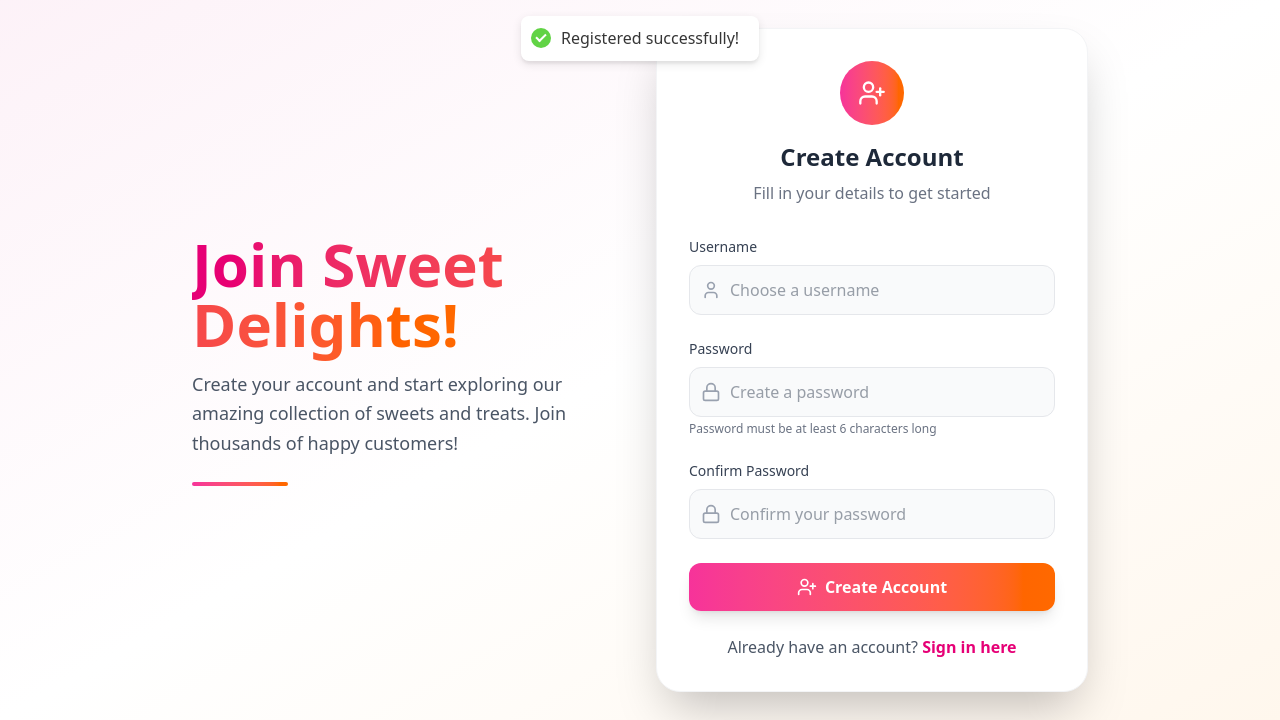
it: RegisterPage › should show loading state during submission
The width and height of the screenshot is (1280, 720).
Type "testuser" into the field with placeholder "Choose a username".
click(872, 290); type("testuser")  # box [689,265,1055,315]
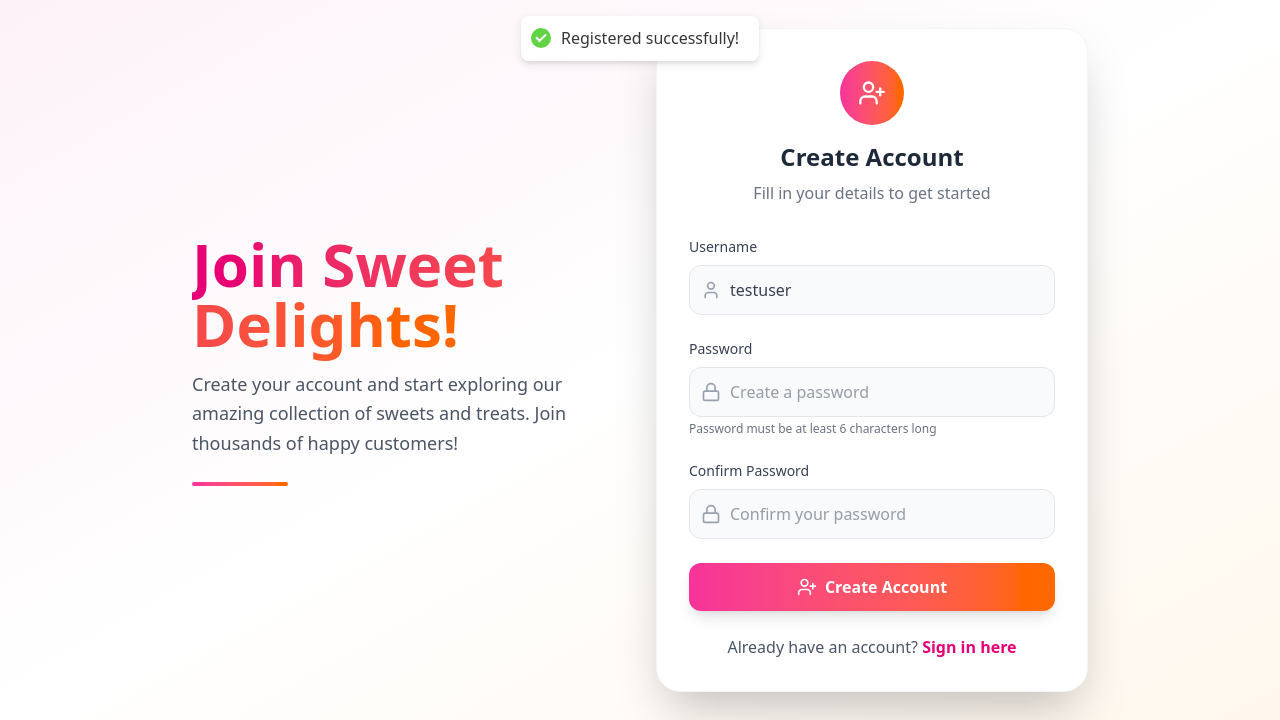
Type "password123" into the password field with placeholder "Create a password".
click(872, 392); type("password123")  # box [689,367,1055,417]
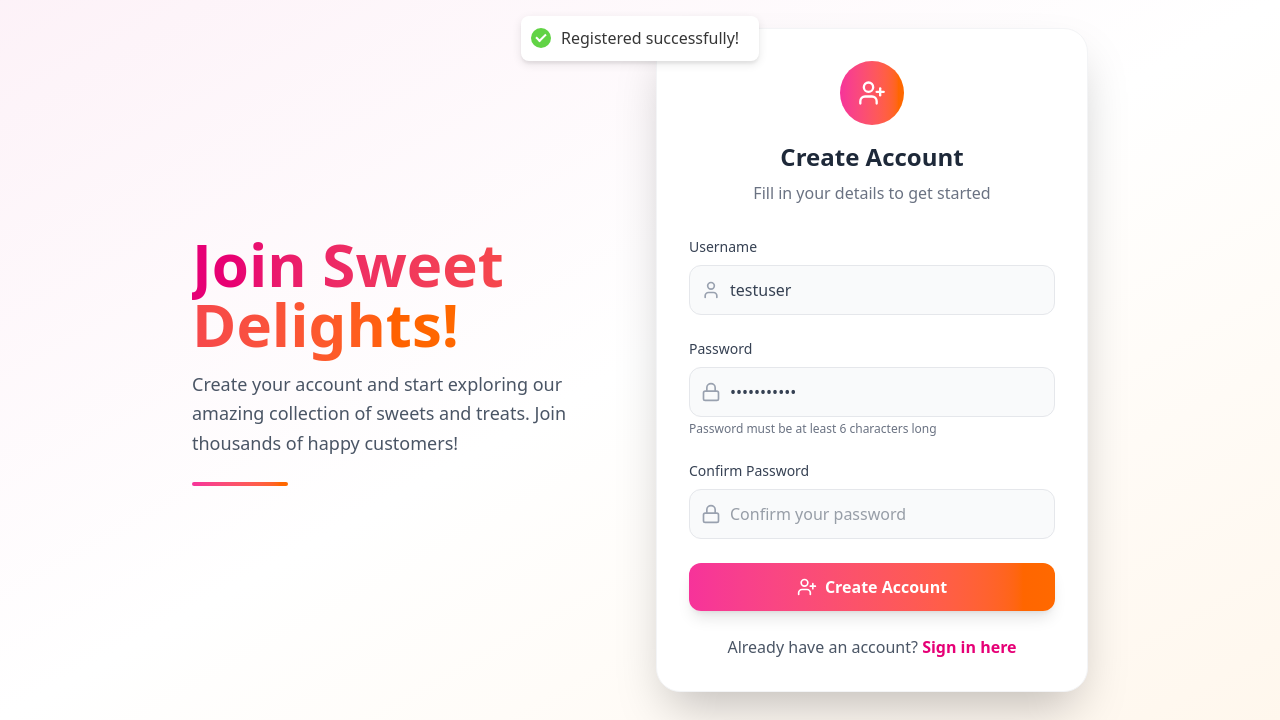
Type "password123" into the password field with placeholder "Confirm your password".
click(872, 514); type("password123")  # box [689,489,1055,539]
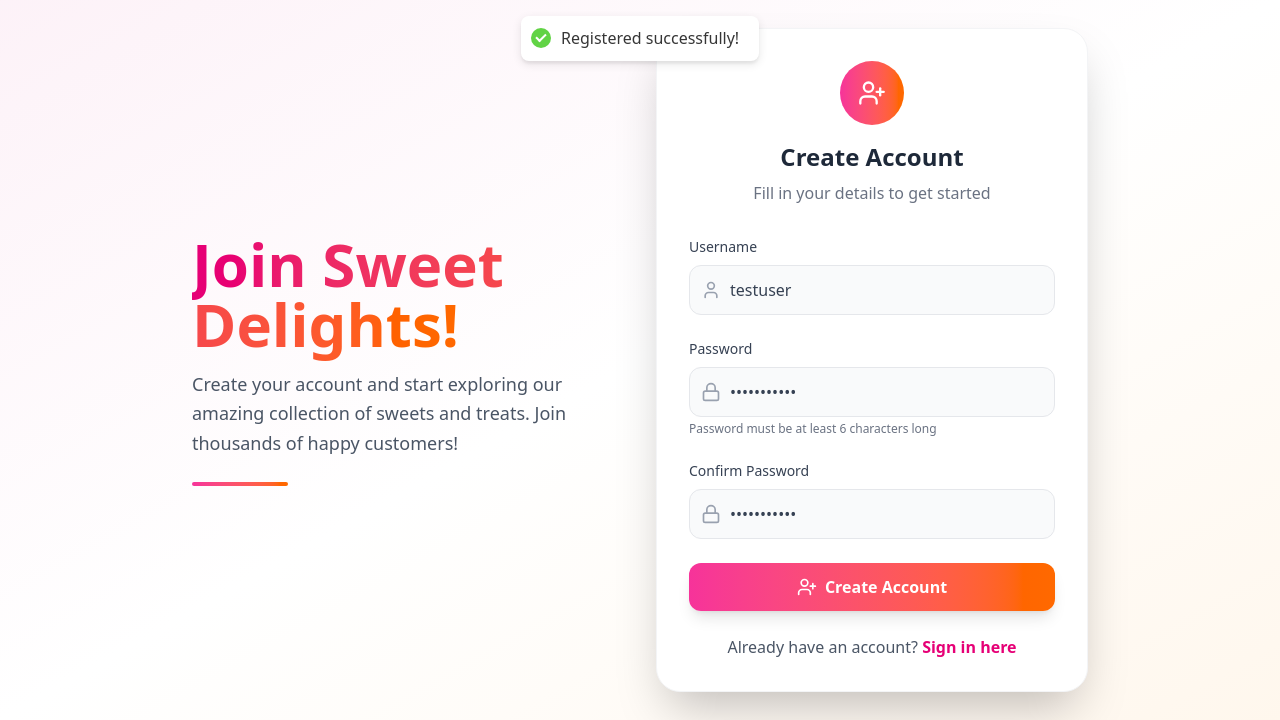
Click the button "Create Account".
click(872, 587)  # box [689,563,1055,611]
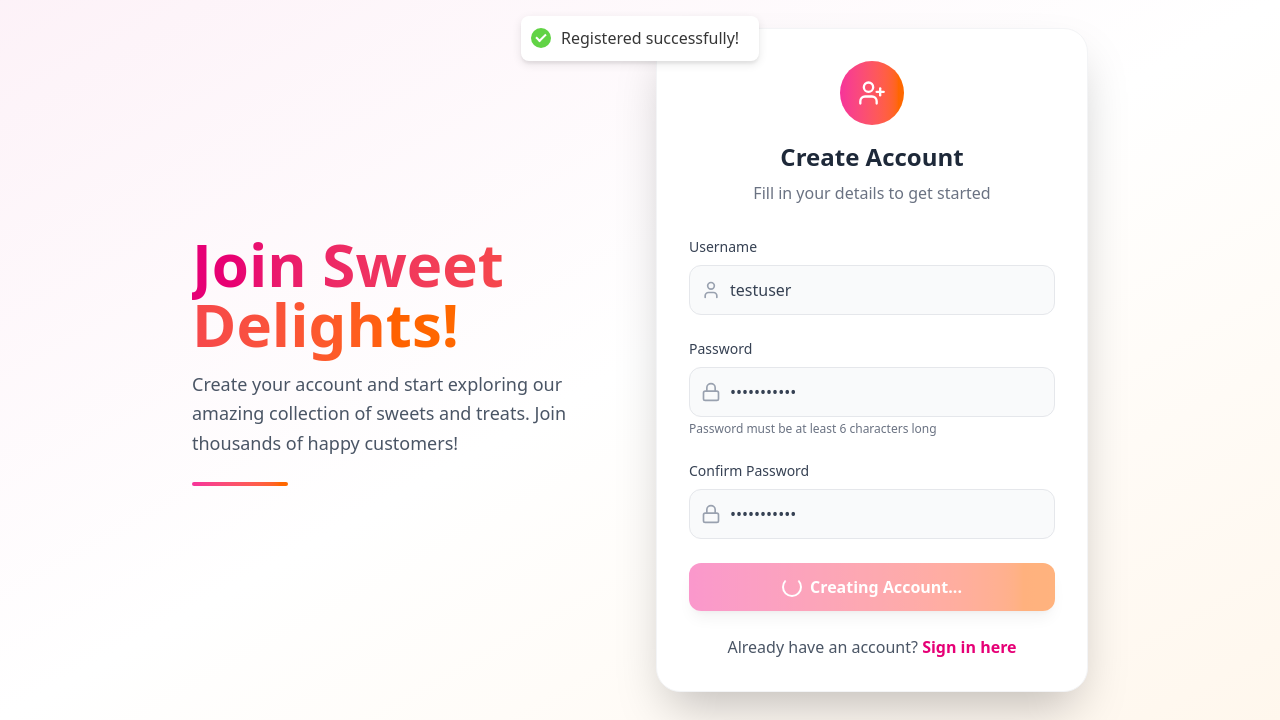
Result: the button named "create account" is disabled at [689,563,1055,611]
